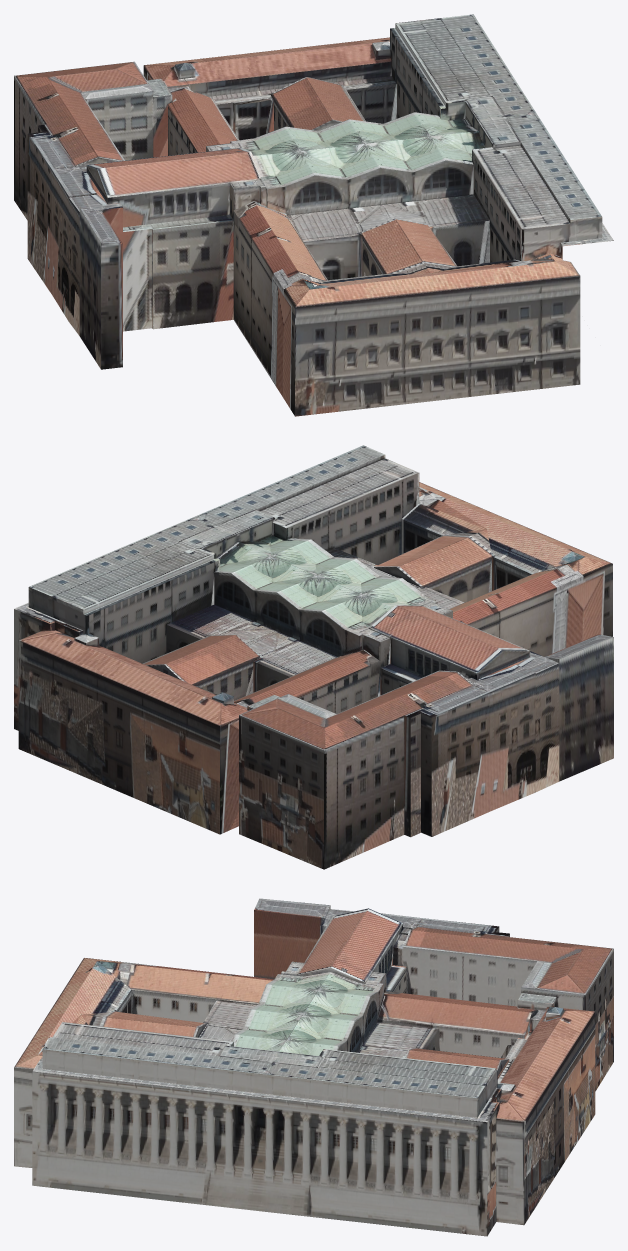
3 views of the same model, one above another, from view 1: azimuth 30°, elevation 25°; view 2: azimuth 150°, elevation 25°; view 3: azimuth 270°, elevation 25° (orthographic). The views are drawn at different scales.
Visible parts, largest first — view 1: Z_UP; view 2: Z_UP; view 3: Z_UP.
Boxes of the visible parts, x1,y1,x2,y2 form: Z_UP: [14, 14, 613, 416]; Z_UP: [14, 445, 613, 869]; Z_UP: [14, 898, 613, 1236].
Size of the model in its own units: 85.08 by 23.82 by 96.87.
Materials: 2 (1 with a texture image).
